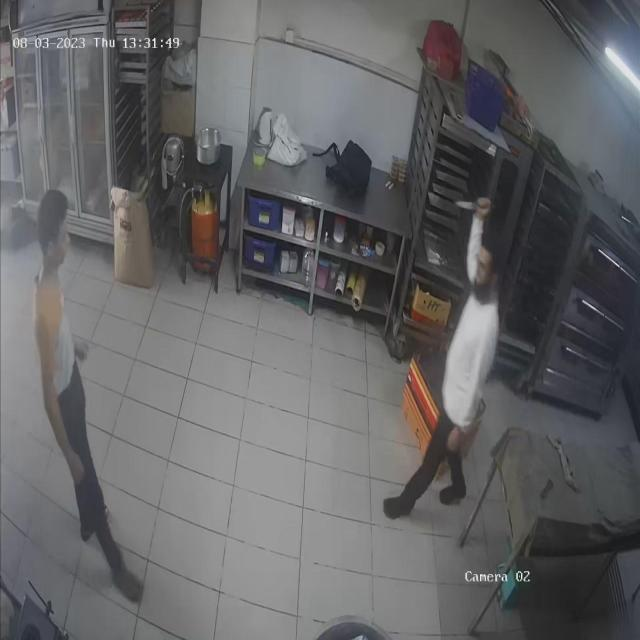Knife: (449, 177, 492, 215)
